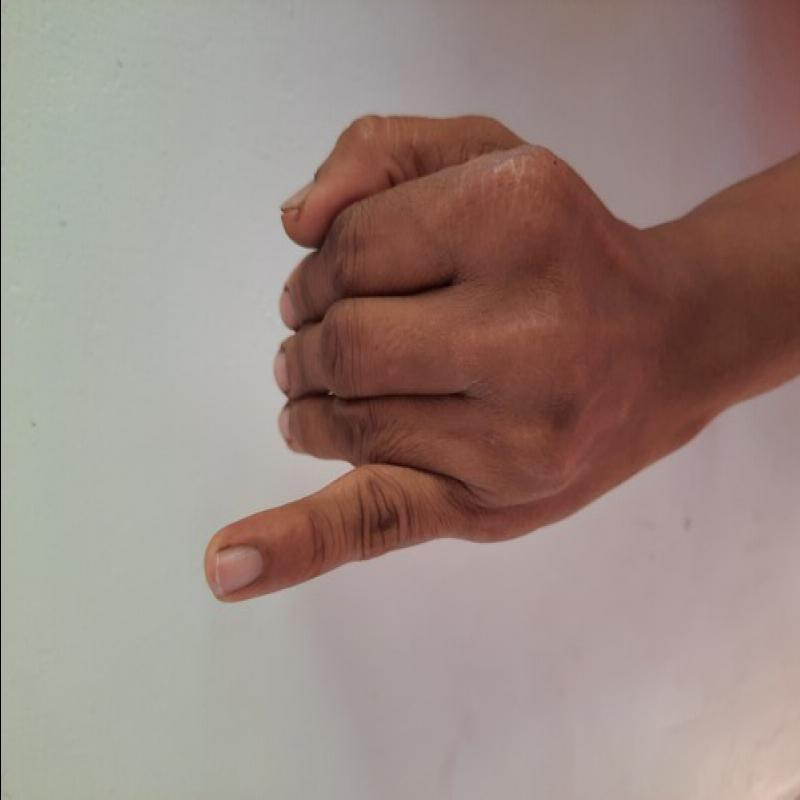Kartharee Mukham: (181, 108, 661, 617)
